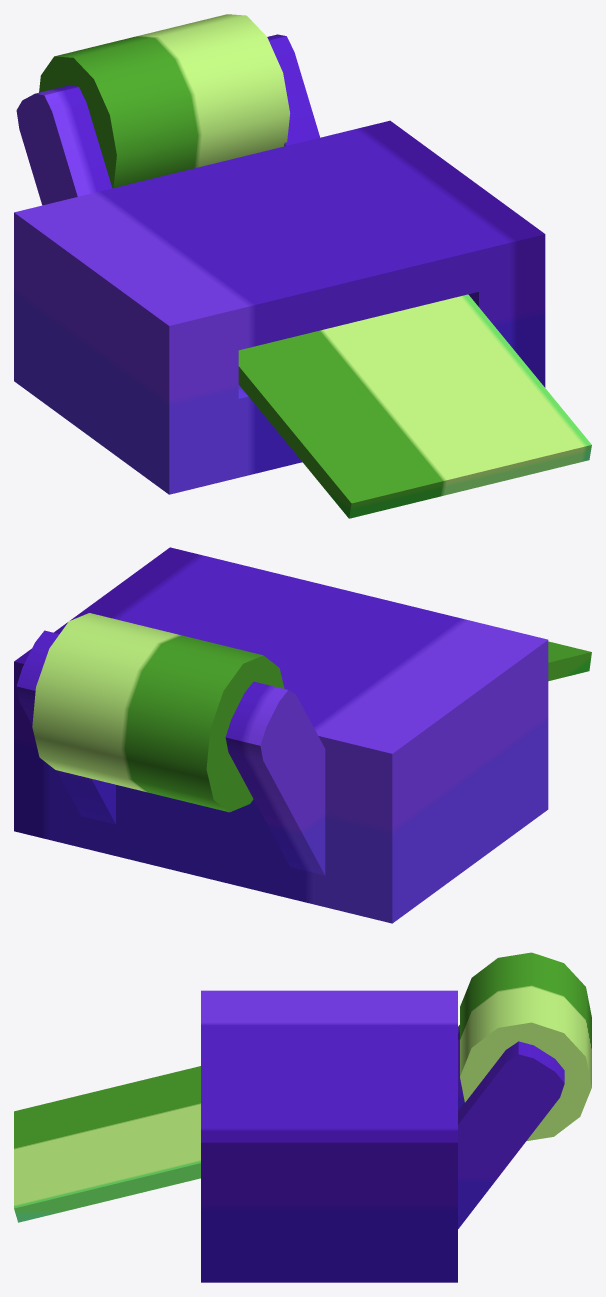
Rendered from Printer.fbx.
3 views of the same model, one above another, from view 1: azimuth 30°, elevation 25°; view 2: azimuth 150°, elevation 25°; view 3: azimuth 270°, elevation 25° (orthographic). The views are drawn at different scales.
Visible parts, largest first — view 1: Printer; view 2: Printer; view 3: Printer.
Boxes of the visible parts, left/top/right/bottom form: Printer: left=14, top=14, right=591, bottom=518; Printer: left=14, top=547, right=591, bottom=923; Printer: left=14, top=952, right=591, bottom=1282.
Size of the model in its own units: 35 by 23.6 by 56.2.
